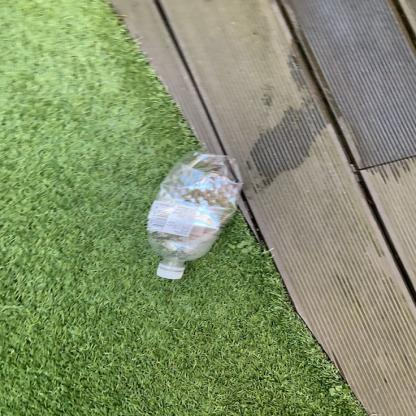trash: (143, 152, 243, 280)
